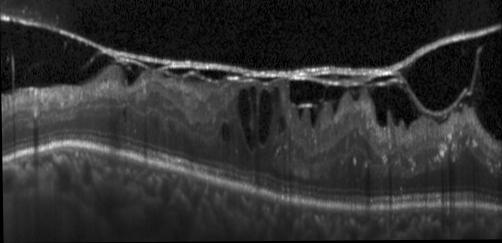intraretinal_cyst: (1, 20, 144, 94), (400, 39, 478, 111), (454, 30, 502, 142), (371, 83, 424, 129), (324, 87, 362, 114), (237, 89, 253, 151), (289, 81, 325, 107), (166, 68, 242, 80), (257, 89, 273, 145), (119, 56, 166, 69), (312, 75, 354, 81), (429, 112, 450, 124), (365, 76, 395, 84), (249, 87, 257, 115), (221, 122, 230, 143), (309, 109, 317, 128), (278, 117, 286, 135), (273, 87, 280, 107), (245, 78, 277, 82), (184, 76, 201, 82), (122, 106, 127, 123), (296, 109, 302, 120), (161, 73, 171, 78)
